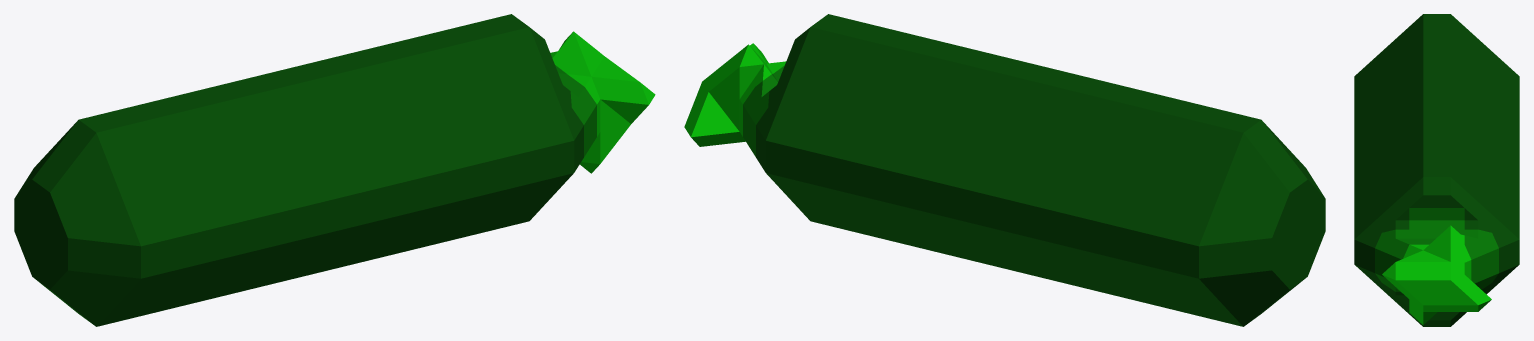
File: Game_zucchini.fbx
3 views of the same model, side by side, from view 1: azimuth 30°, elevation 25°; view 2: azimuth 150°, elevation 25°; view 3: azimuth 270°, elevation 25° (orthographic). The views are drawn at different scales.
Parts seen in each view (by area): view 1: zucchini_mc; view 2: zucchini_mc; view 3: zucchini_mc.
Part boxes in pixels (x1=…): zucchini_mc: x1=14, y1=14, x2=655, y2=326; zucchini_mc: x1=684, y1=14, x2=1325, y2=326; zucchini_mc: x1=1354, y1=14, x2=1519, y2=326.
Bounding box in the file's own units: 1.9 × 0.6 × 0.6.
